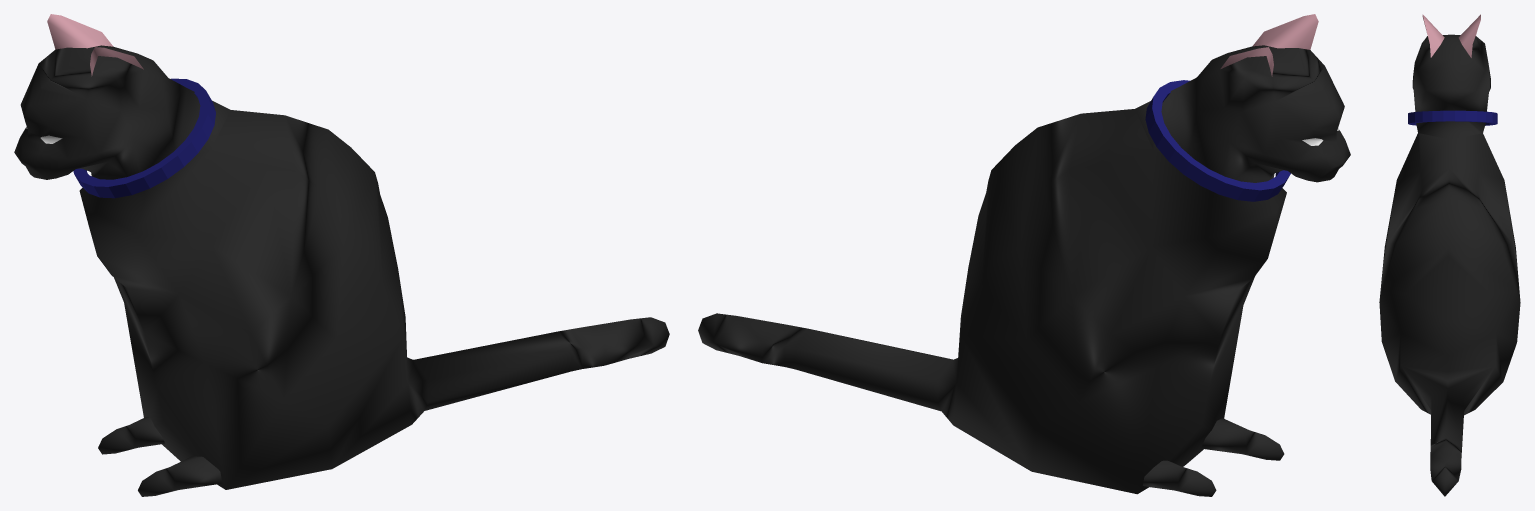
Rendered from cat.fbx.
3 renders of one model, left to right at view 1: azimuth 30°, elevation 25°; view 2: azimuth 150°, elevation 25°; view 3: azimuth 270°, elevation 25°, orthographic. The views are drawn at different scales.
Visible parts, largest first — view 1: Model, Group2, Group1, Group3; view 2: Model, Group2, Group1, Group3; view 3: Model, Group2.
Boxes of the visible parts, left/top/right/bottom form: Model: left=14, top=14, right=669, bottom=489; Group2: left=73, top=78, right=215, bottom=198; Group1: left=138, top=456, right=222, bottom=496; Group3: left=98, top=416, right=164, bottom=454; Model: left=698, top=14, right=1350, bottom=494; Group2: left=1145, top=80, right=1290, bottom=201; Group1: left=1201, top=418, right=1284, bottom=460; Group3: left=1143, top=460, right=1216, bottom=496; Model: left=1379, top=14, right=1520, bottom=496; Group2: left=1408, top=110, right=1497, bottom=125.
Bounding box in the file's own units: 48.09 × 32.83 × 14.04.
